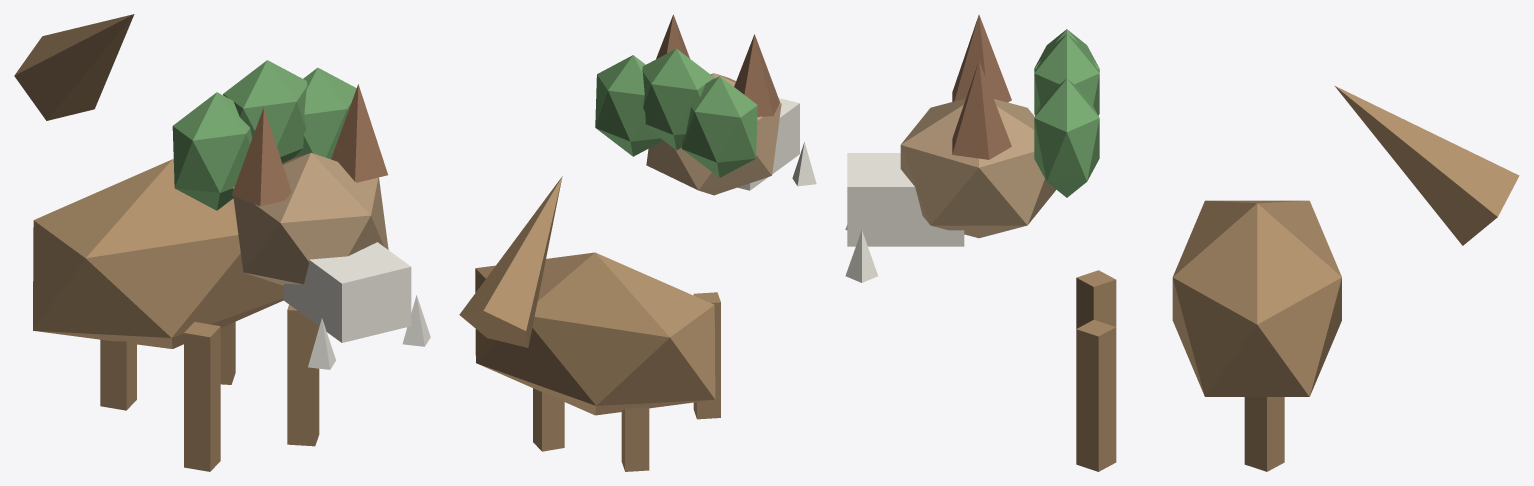
The model's file is npcpose_wolf_attack_00.glb.
3 renders of one model, left to right at view 1: azimuth 30°, elevation 25°; view 2: azimuth 150°, elevation 25°; view 3: azimuth 270°, elevation 25°, orthographic. The views are drawn at different scales.
Visible parts, largest first — view 1: npcpose; view 2: npcpose; view 3: npcpose.
Part boxes in pixels (x1,y1,x2,y2): npcpose: [14, 14, 430, 471]; npcpose: [459, 14, 816, 471]; npcpose: [845, 14, 1519, 471].
Size of the model in its own units: 0.8873 by 1.22 by 1.84.
